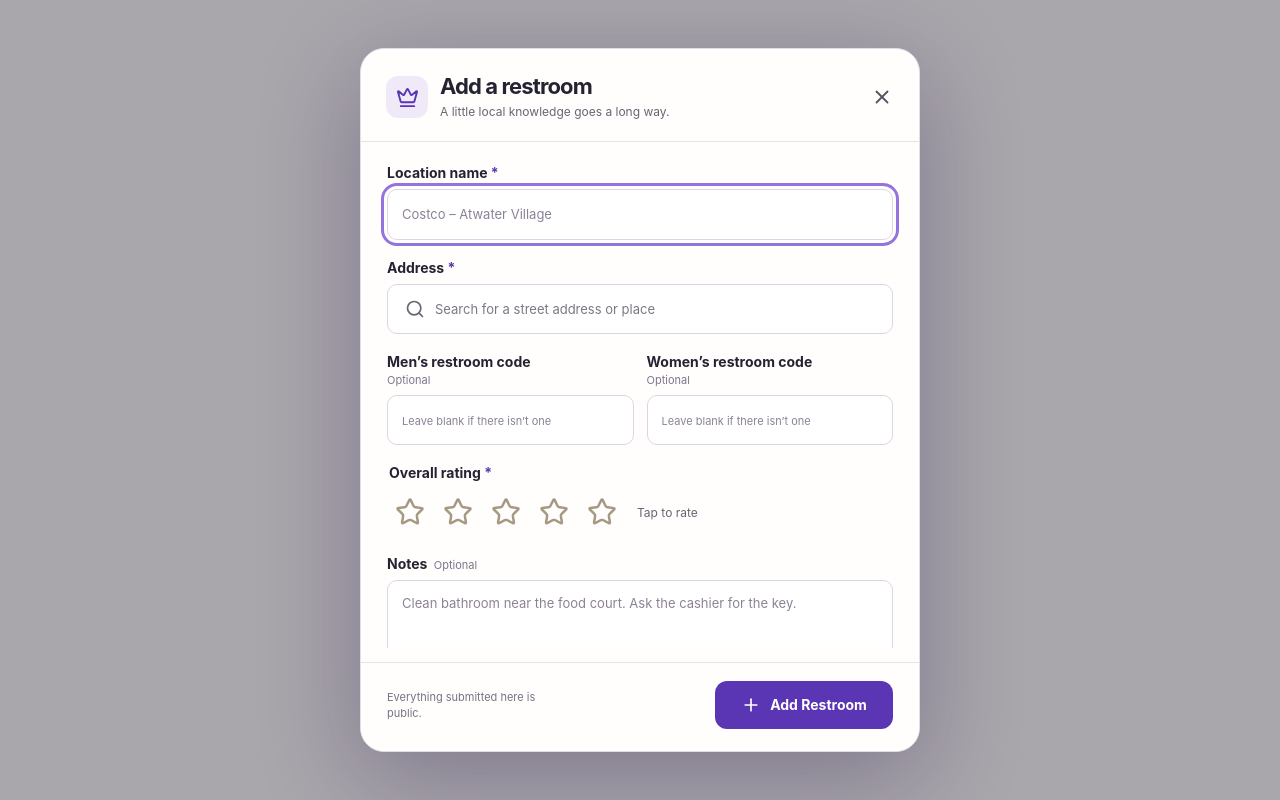
Scenario: blocks an empty form and explains the required fields
Click the button "Add Restroom": click(804, 705) [715,681,893,729]
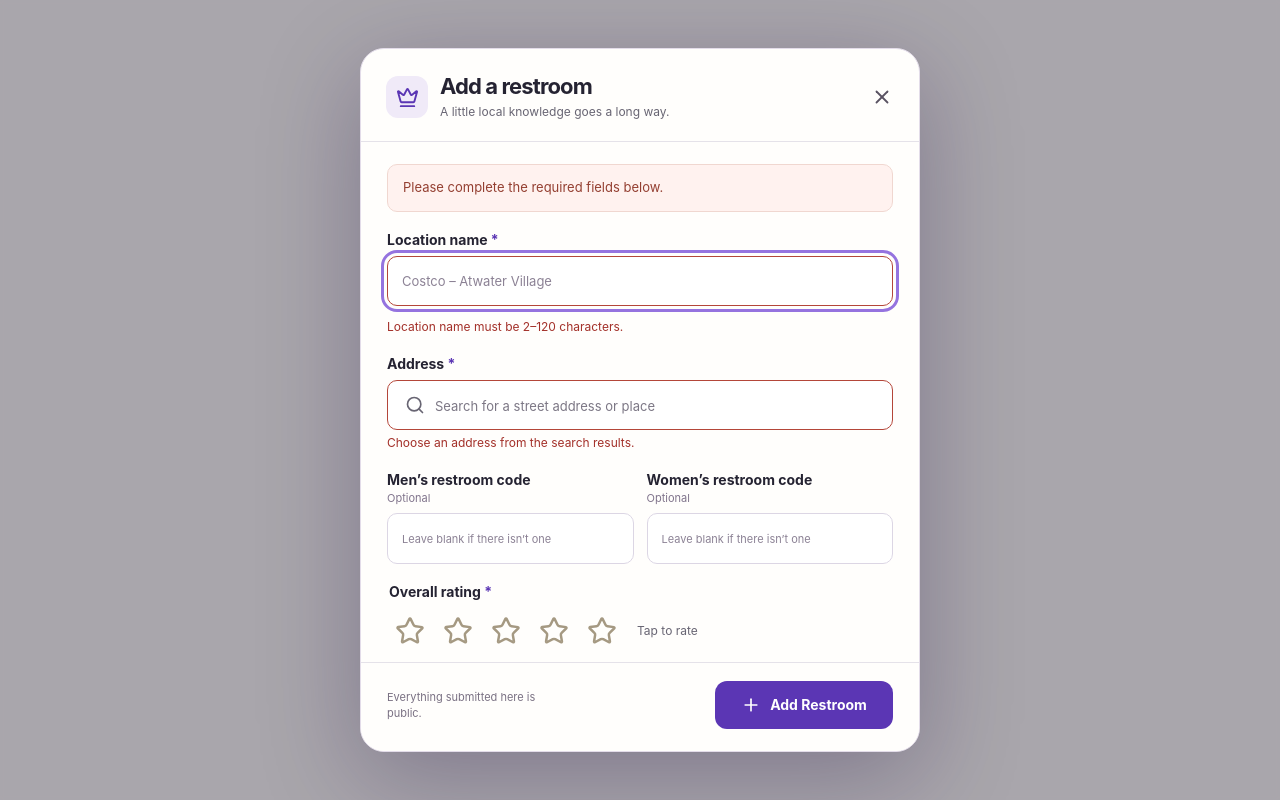
Check: the message shows "required fields", box [403,179,663,195]
Check: the text "Choose an address from the search results." is shown, box [387,435,634,450]
